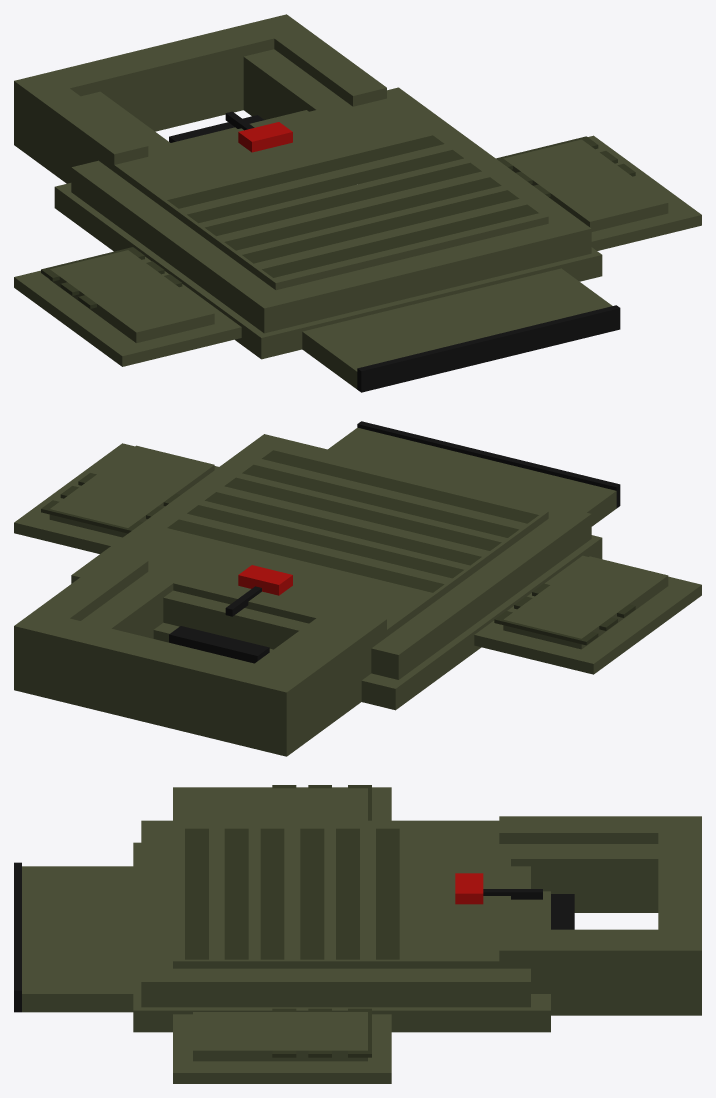
Rendered from ballistic_vest_heavy.glb.
The picture shows the model from 3 angles, top to bottom: view 1: azimuth 30°, elevation 25°; view 2: azimuth 150°, elevation 25°; view 3: azimuth 270°, elevation 25°; orthographic projection.
Parts seen in each view (by area): view 1: ballistic_vest_heavy:compound; view 2: ballistic_vest_heavy:compound; view 3: ballistic_vest_heavy:compound.
Part boxes in pixels (x1=…): ballistic_vest_heavy:compound: x1=14, y1=14, x2=701, y2=392; ballistic_vest_heavy:compound: x1=14, y1=421, x2=701, y2=756; ballistic_vest_heavy:compound: x1=14, y1=785, x2=701, y2=1083.
Bounding box in the file's own units: 0.68 × 0.072 × 0.692.
